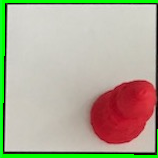Red Bishop: (85, 72, 154, 148)
